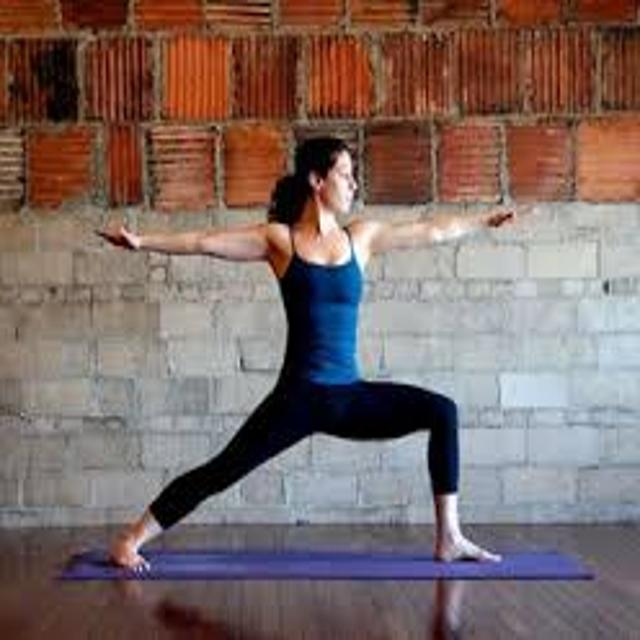Warrior_II: (97, 136, 527, 569)
